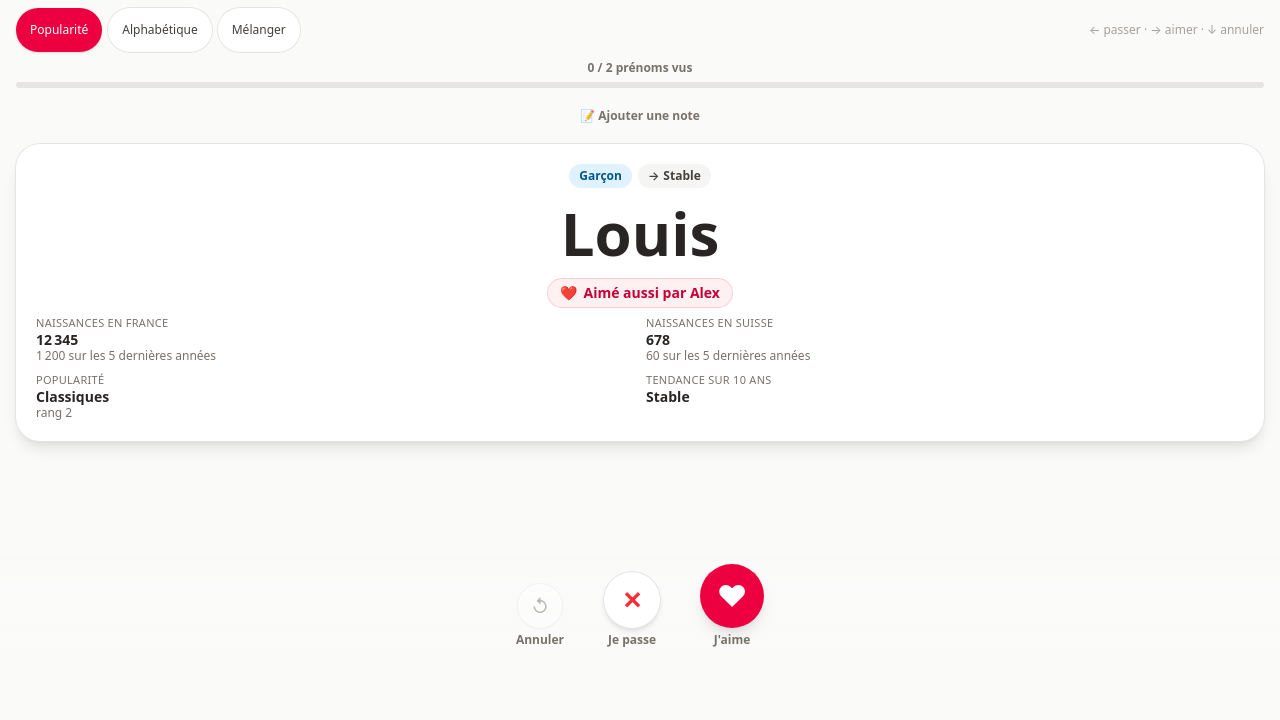
Test: SwipePage › applies the gender preference and ends with the empty state
Expected: the heading "Louis" is shown, x1=561 y1=196 x2=719 y2=271
Expected: the text "0 / 2 prénoms vus" is shown, x1=588 y1=59 x2=692 y2=76
Click the button named "J'aime" at (732, 596), box x1=700 y1=564 x2=764 y2=628
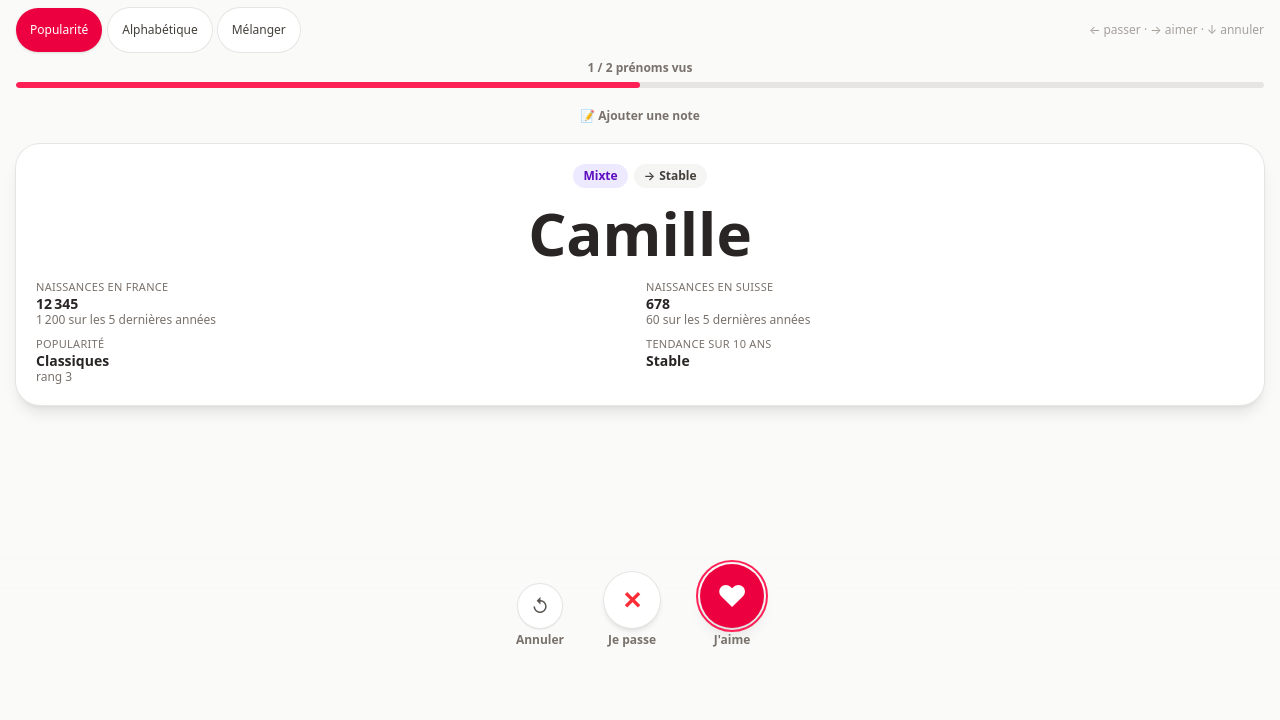
Expected: the heading "Camille" is shown, x1=528 y1=196 x2=752 y2=271
Click the button named "Je passe" at (632, 600), box x1=604 y1=572 x2=660 y2=628
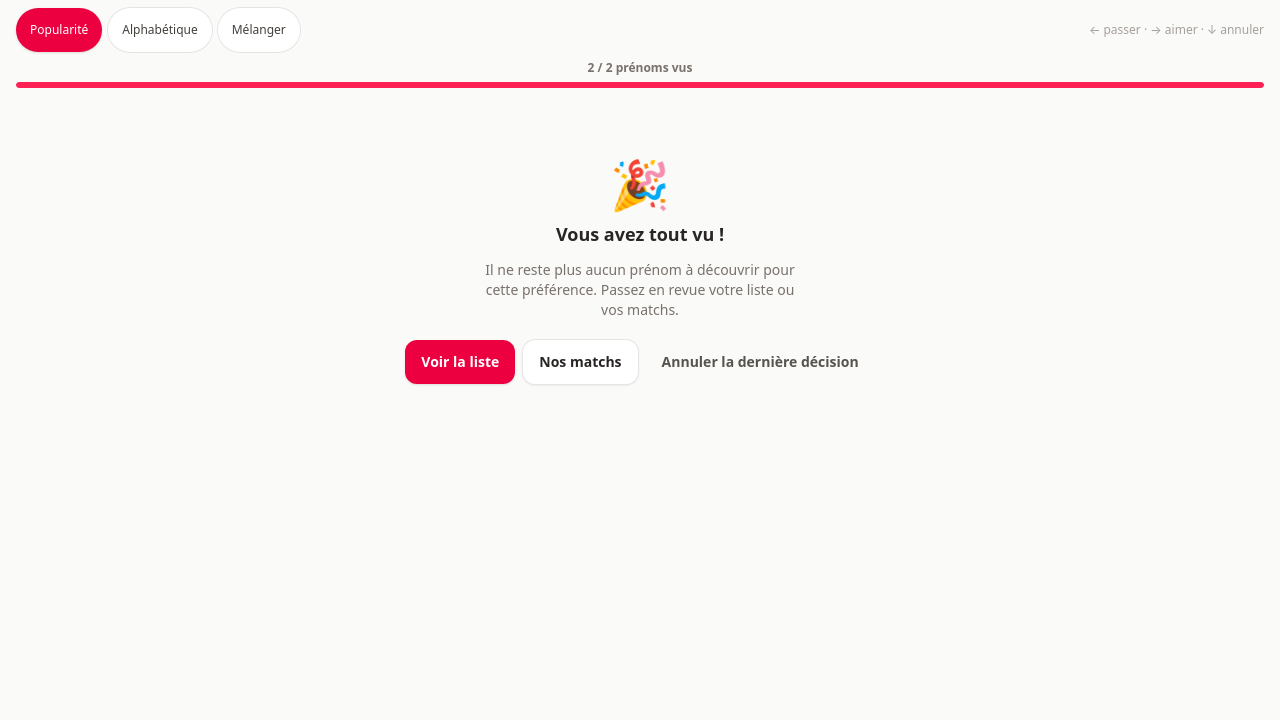
Expected: the heading "Vous avez tout vu !" is shown, x1=556 y1=220 x2=724 y2=248
Expected: the text "2 / 2 prénoms vus" is shown, x1=588 y1=59 x2=692 y2=76
